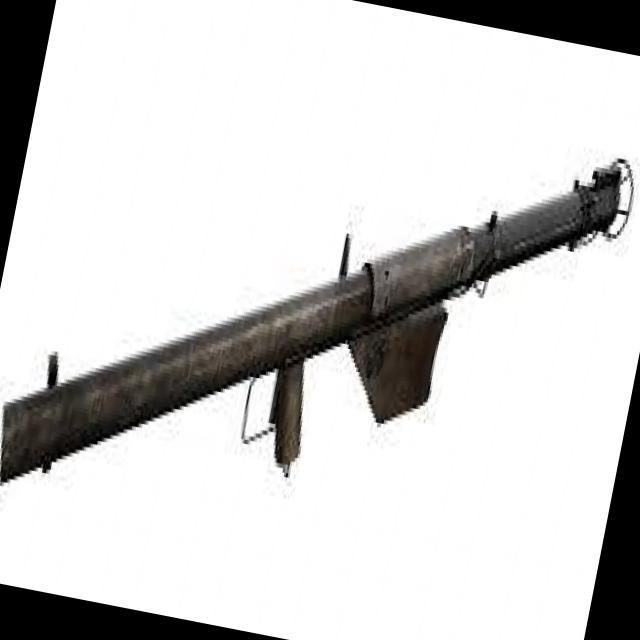rocket: (0, 51, 636, 591)
